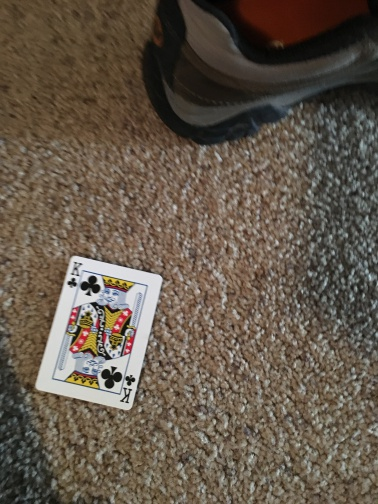king: (33, 252, 164, 410)
